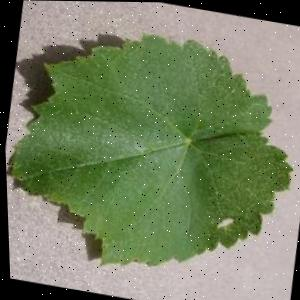Folha: (0, 8, 300, 296)
